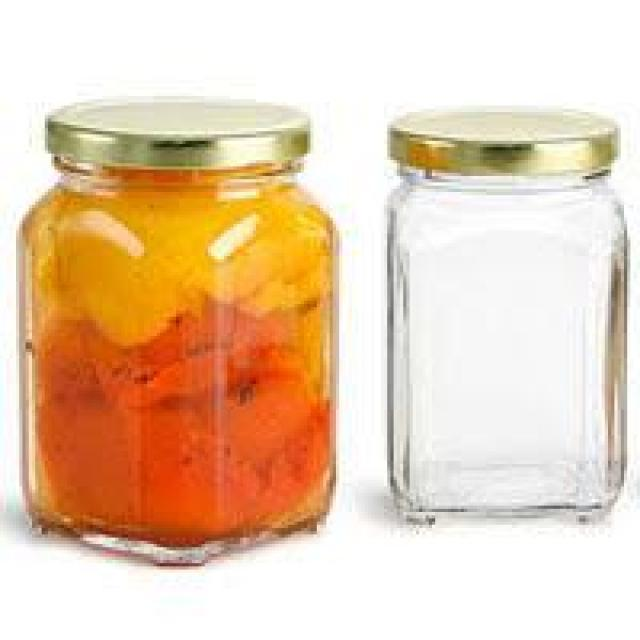Glass: (16, 96, 342, 570), (380, 106, 638, 544)
